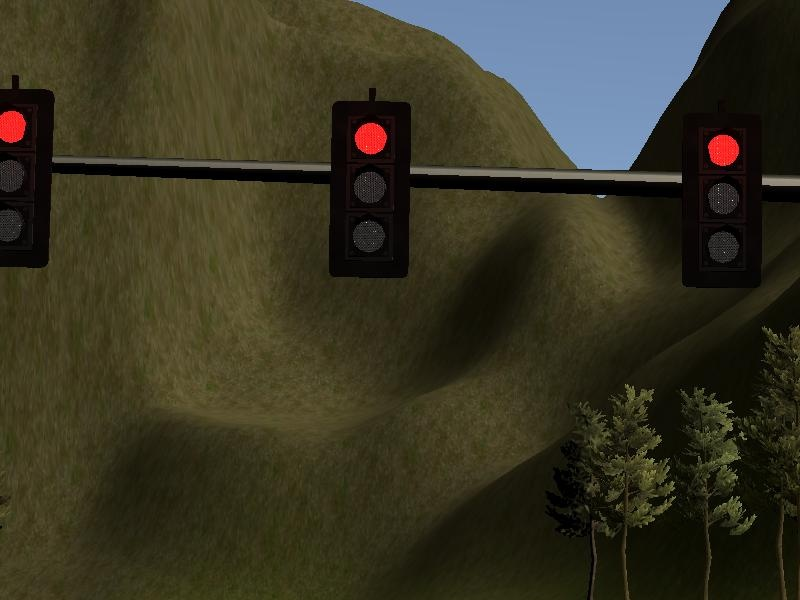red: (324, 89, 417, 283), (679, 109, 759, 294), (1, 84, 56, 277)
